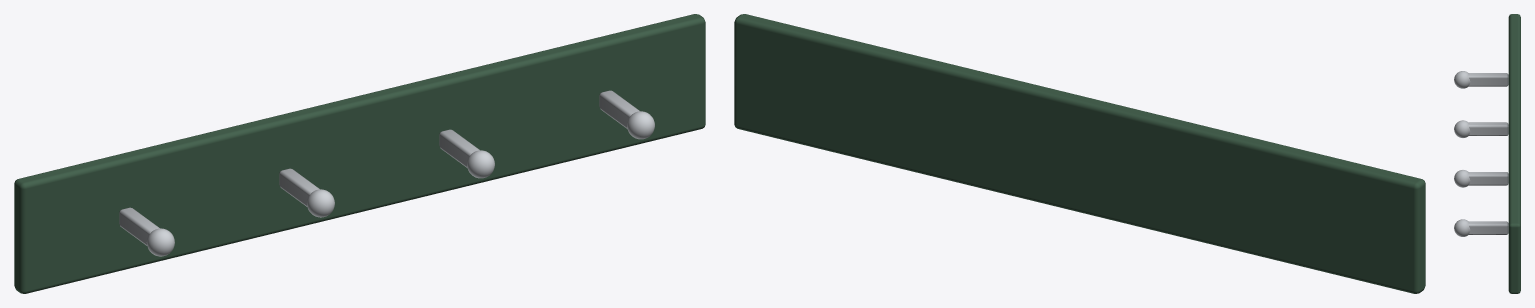
File: coatHooks.glb
The picture shows the model from 3 angles, left to right: view 1: azimuth 30°, elevation 25°; view 2: azimuth 150°, elevation 25°; view 3: azimuth 270°, elevation 25°; orthographic projection. The views are drawn at different scales.
Parts seen in each view (by area): view 1: board, arm1, arm0, arm2, arm3, ball0, ball3, ball2, ball1; view 2: board; view 3: board, arm0, arm3, arm1, arm2, ball1, ball2, ball0, ball3.
Boxes of the visible parts, bbox=[...] form: board: bbox=[14, 14, 705, 293]; arm1: bbox=[439, 129, 479, 167]; arm0: bbox=[599, 90, 639, 128]; arm2: bbox=[279, 168, 319, 206]; arm3: bbox=[119, 207, 159, 245]; ball0: bbox=[627, 111, 654, 139]; ball3: bbox=[146, 228, 174, 256]; ball2: bbox=[307, 189, 334, 217]; ball1: bbox=[467, 150, 494, 178]; board: bbox=[734, 14, 1425, 293]; board: bbox=[1508, 14, 1520, 293]; arm0: bbox=[1468, 221, 1508, 234]; arm3: bbox=[1468, 73, 1508, 86]; arm1: bbox=[1468, 172, 1508, 185]; arm2: bbox=[1468, 122, 1508, 135]; ball1: bbox=[1454, 170, 1470, 187]; ball2: bbox=[1454, 120, 1470, 137]; ball0: bbox=[1454, 219, 1470, 236]; ball3: bbox=[1454, 71, 1470, 88].
Bounding box in the file's own units: 0.9 × 0.14 × 0.12.
